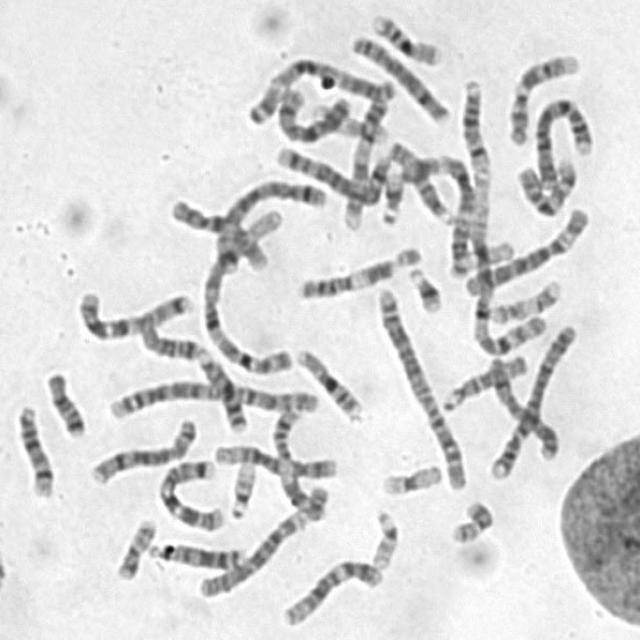A1: (196, 198, 296, 378), (462, 199, 550, 359)
A2: (370, 279, 470, 492), (102, 372, 322, 420)
A3: (383, 141, 478, 277), (241, 50, 396, 126)
B4: (482, 316, 581, 480), (527, 90, 596, 192)
B5: (212, 172, 330, 273), (270, 138, 393, 206)
C10: (162, 192, 272, 272), (511, 150, 580, 218)
C11: (291, 238, 423, 300), (265, 399, 330, 522)
C12: (276, 551, 385, 628), (208, 436, 340, 480)
C6: (458, 199, 594, 298), (192, 502, 310, 600)
C7: (71, 283, 194, 342), (152, 450, 228, 532)
C8: (344, 26, 453, 126), (82, 409, 200, 486)
C9: (502, 45, 583, 147), (337, 86, 393, 231)
D13: (191, 342, 249, 433), (141, 534, 247, 570)
D14: (8, 396, 56, 499), (454, 72, 493, 178)
D15: (382, 133, 457, 225), (436, 347, 530, 412)
E16: (289, 341, 366, 422), (364, 5, 445, 67)
E17: (484, 272, 563, 326), (305, 97, 391, 144)
E18: (38, 364, 88, 439), (132, 313, 206, 362)
F19: (374, 455, 444, 498), (458, 232, 518, 272)
F20: (109, 511, 159, 581), (444, 492, 496, 545)
G21: (402, 259, 446, 315), (375, 163, 406, 226)
G22: (364, 501, 402, 571), (222, 454, 259, 520)
X: (482, 350, 562, 461), (271, 82, 352, 144)
